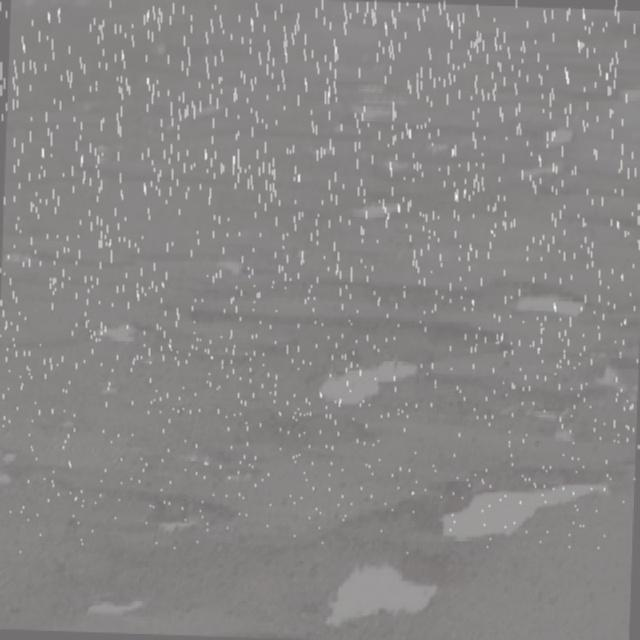Pothole: (410, 458, 621, 542), (180, 284, 479, 343), (281, 332, 454, 433), (288, 536, 447, 633), (505, 337, 640, 448), (121, 472, 249, 551), (329, 58, 418, 146), (509, 124, 591, 218), (488, 264, 594, 321), (352, 185, 431, 242), (72, 579, 162, 627), (94, 304, 163, 364)
